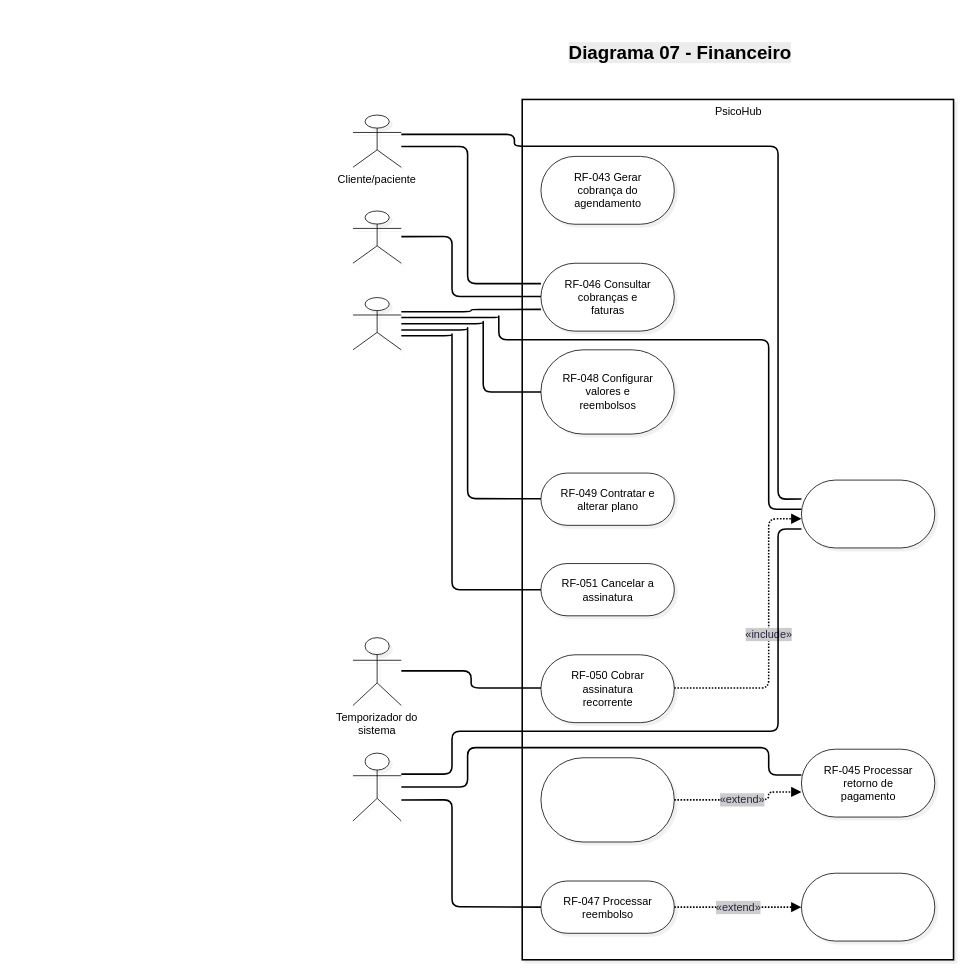
Some shapes in this 970 by 977 pixel diagram are drawn without their labels. The shapes that lost their labels are listed below. From the top down, each one's centre as x and y in pixels, then its label:
At (378,238): "Atendente".
At (378,325): "Administrador".
At (869,515): "RF-044 Pagar cobrança (Pix ou cartão)".
At (378,788): "«actor» Provedor de pagamento".
At (608,801): "RF-021 Confirmar agendamento pós-pagamento (diagrama 4)".
At (869,908): "RF-022 Cancelar agendamento (diagrama 4)".
